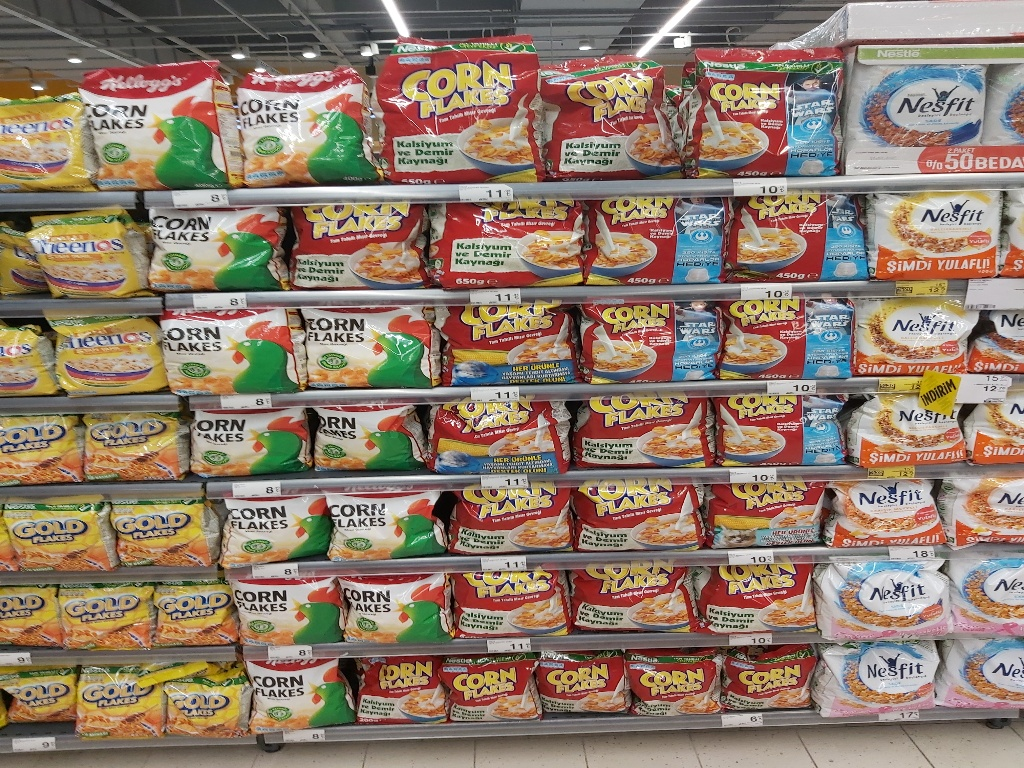urun: (378, 29, 543, 178), (536, 29, 685, 178), (695, 24, 844, 173), (218, 51, 370, 195), (842, 51, 995, 154), (420, 193, 591, 285), (728, 189, 874, 292), (863, 180, 1009, 283), (582, 191, 739, 285), (152, 300, 303, 396), (288, 298, 439, 394), (430, 297, 581, 393), (572, 293, 723, 389), (705, 291, 856, 387), (283, 197, 422, 296), (147, 198, 285, 297), (429, 390, 575, 475), (571, 389, 717, 474), (19, 206, 147, 302), (849, 287, 988, 371), (44, 298, 165, 394), (814, 558, 955, 640), (713, 387, 850, 470), (573, 558, 705, 643), (320, 481, 447, 567), (439, 474, 572, 556), (570, 479, 703, 561), (698, 475, 831, 557), (448, 559, 573, 644), (828, 466, 950, 553), (303, 394, 429, 477), (700, 556, 823, 640), (187, 397, 311, 480), (819, 639, 954, 713), (212, 481, 329, 566), (97, 493, 214, 577), (72, 403, 187, 488), (3, 493, 119, 577), (1, 79, 87, 189), (844, 389, 966, 466), (337, 567, 452, 648), (228, 570, 343, 650), (49, 580, 155, 657), (248, 655, 351, 733), (346, 653, 448, 731), (1, 402, 86, 492), (530, 648, 631, 721), (625, 643, 726, 716), (716, 641, 817, 714), (74, 655, 166, 735), (157, 658, 250, 737), (443, 648, 538, 716), (152, 582, 233, 644), (150, 580, 230, 641)
urun2: (84, 47, 237, 191)
